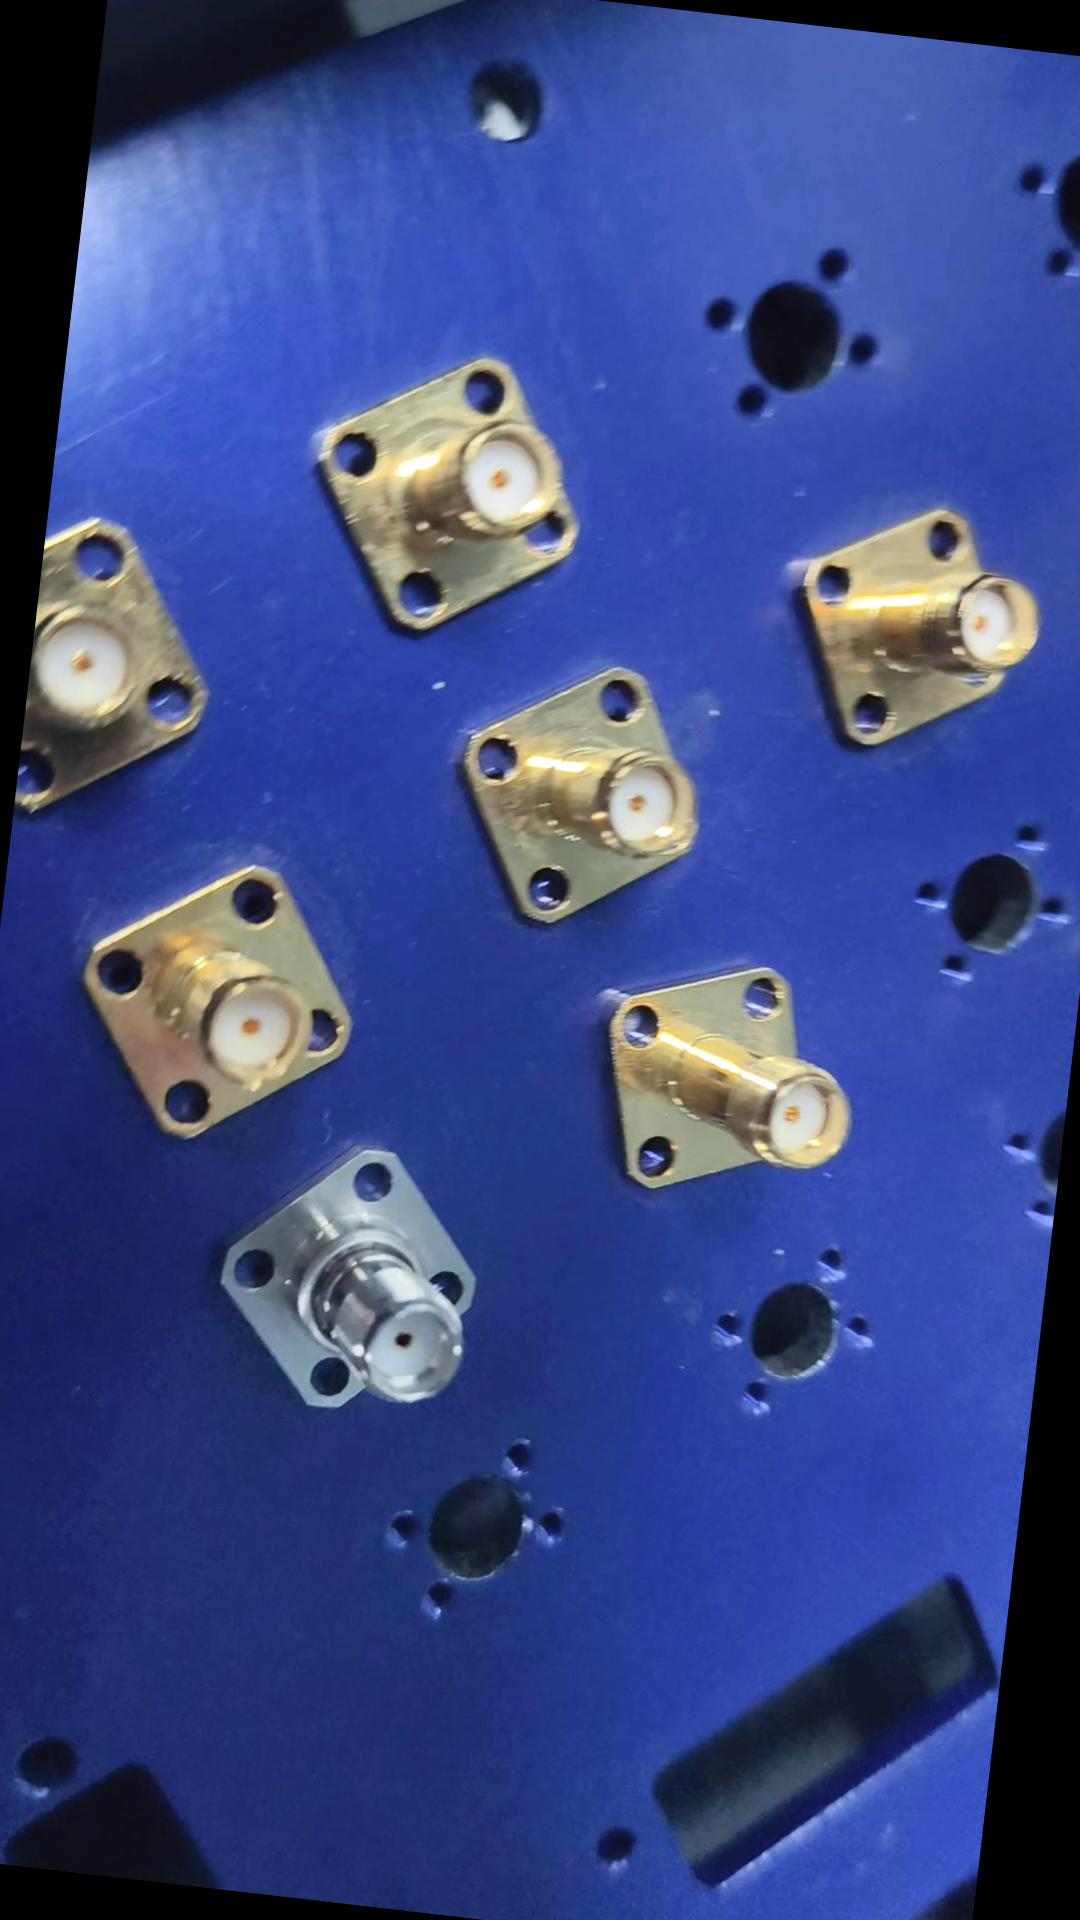SMA: (70, 833, 380, 1159), (208, 1116, 505, 1439), (309, 338, 597, 651), (458, 646, 725, 947), (775, 491, 1051, 775), (588, 949, 874, 1218)
